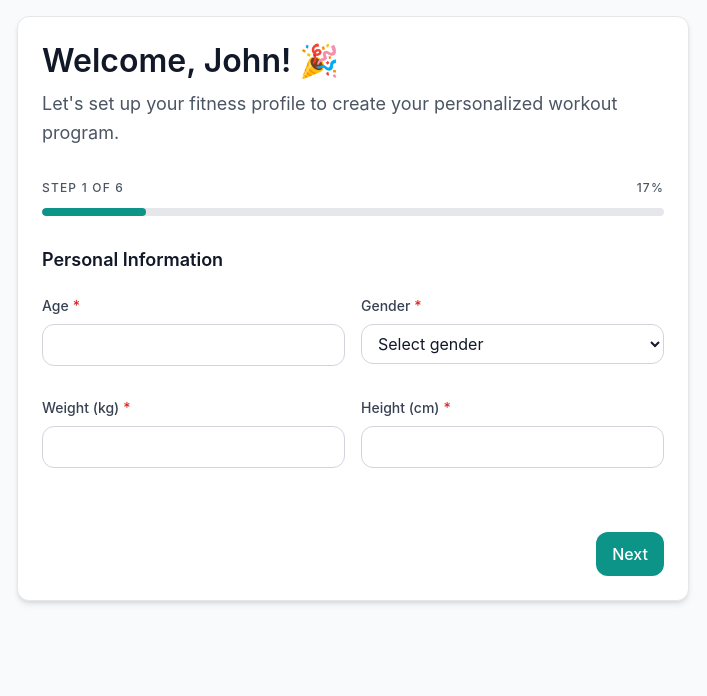
Test case: OnboardingPage › should not advance to the next step when required fields are missing
Click the button "Next". click: (630, 554)
box: [596,532,664,576]
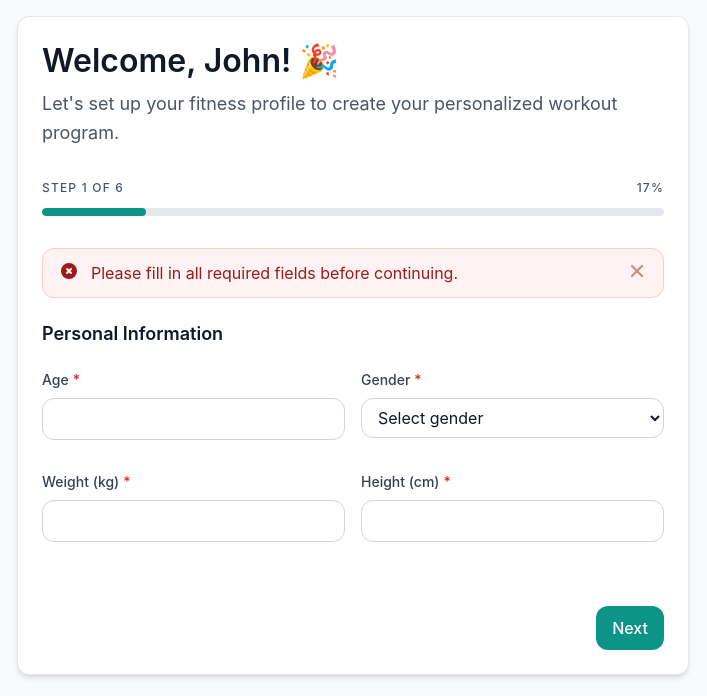
Check: the text "Step 1 of 6" is shown, box [42,180,124,196]
Check: the text "Please fill in all required fields before continuing." is shown, box [91,262,458,282]
